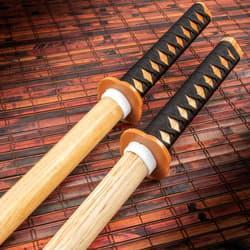espada: (0, 2, 210, 243), (45, 37, 243, 249)
